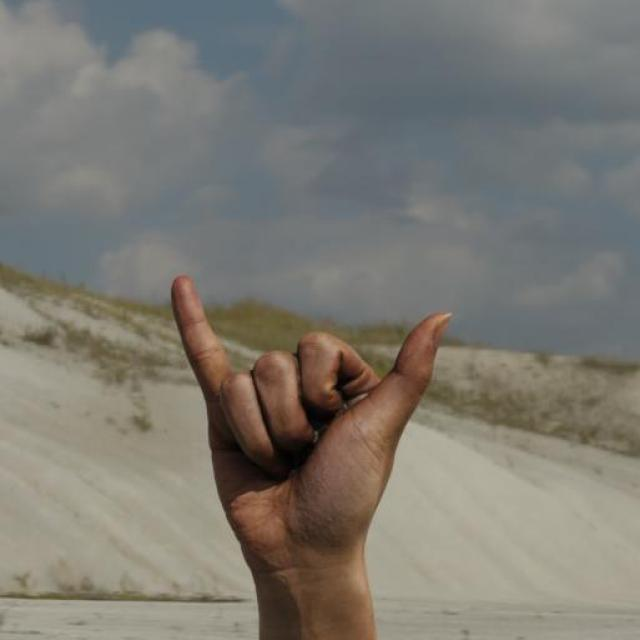Y: (169, 271, 455, 565)
